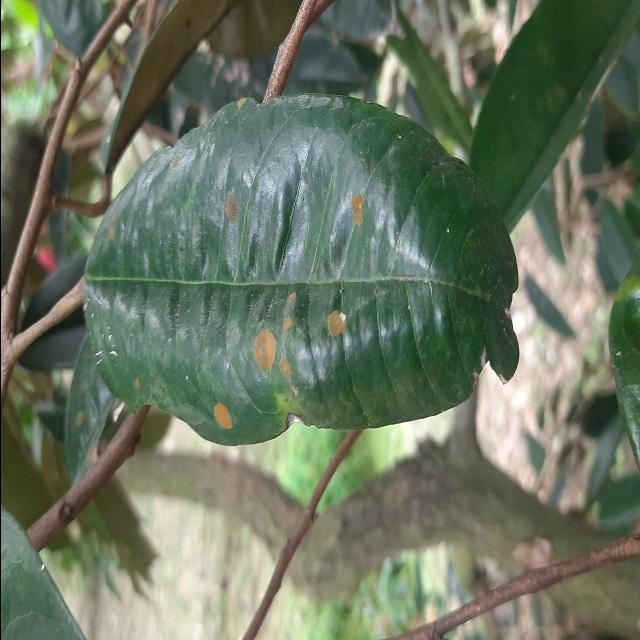Algal Leaf Spot: (73, 83, 527, 441)
